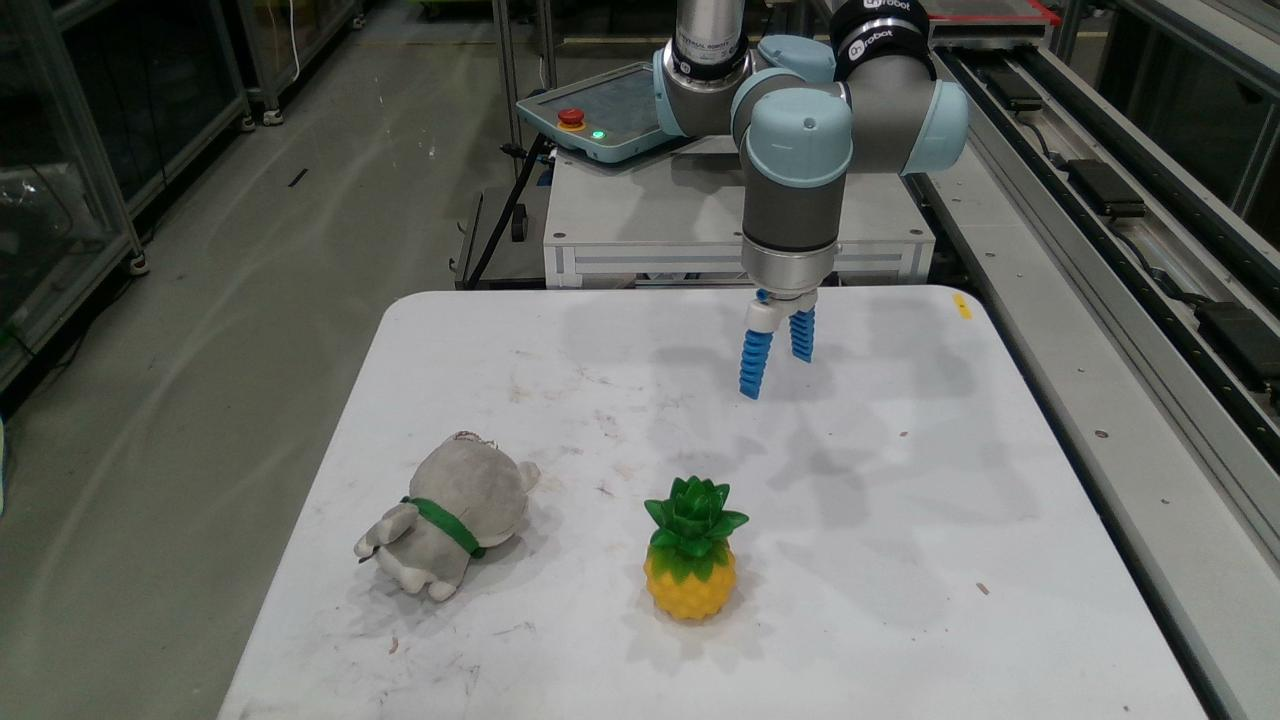UR5: (654, 0, 965, 331)
gripper_left: (739, 330, 772, 398)
gripper_right: (790, 307, 814, 362)
target: (356, 432, 540, 600), (645, 476, 747, 618)
